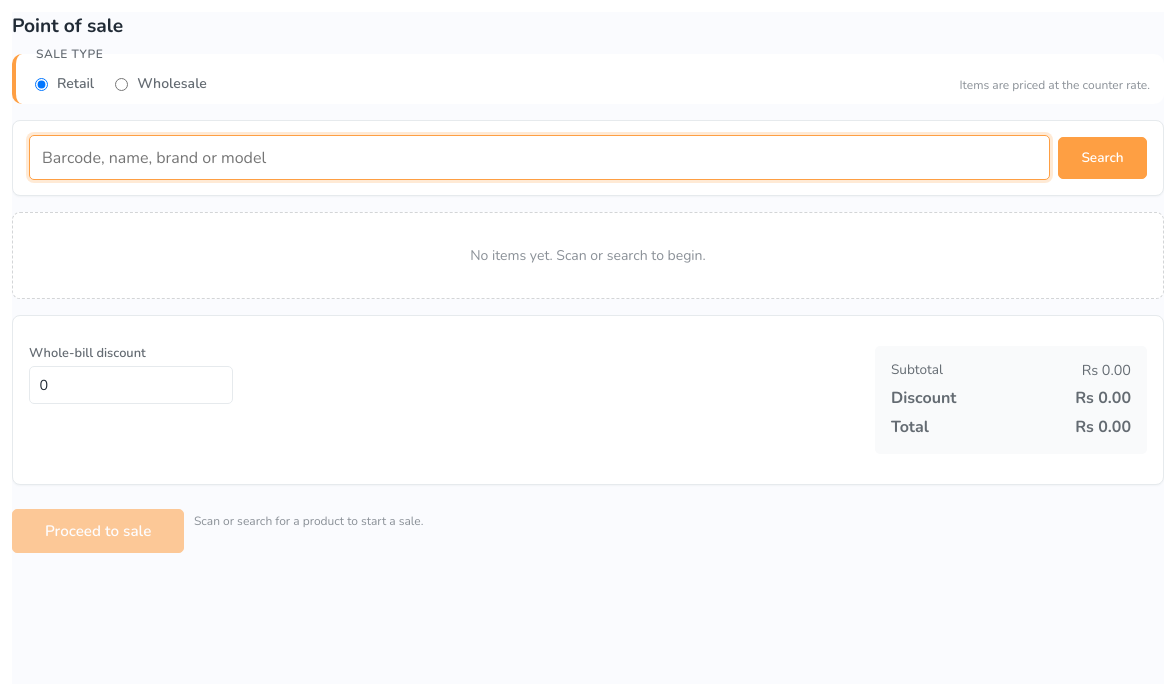
it: POS search results › shows a card per match, and adds nothing on its own
In the field named "scan or search": (540, 158) [29,135,1050,180], type "type-c"
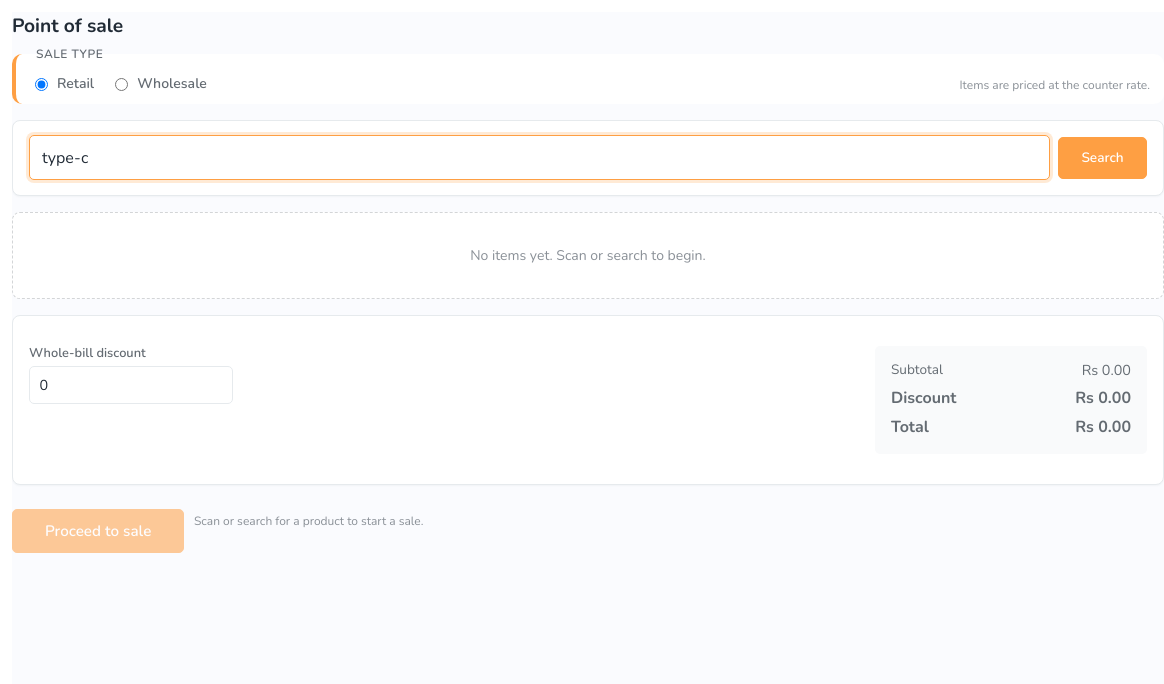
Press Enter
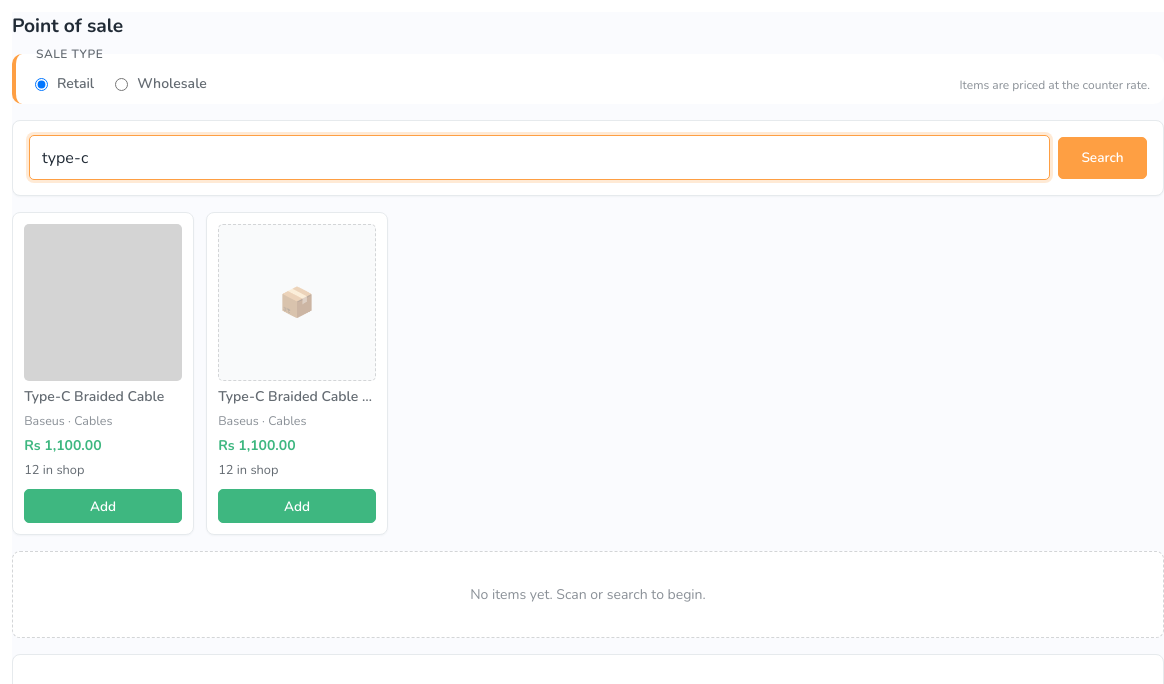
Check: the text "Type-C Braided Cable" is shown, box [24,386,182,407]
Check: the text "Type-C Braided Cable 2m" is shown, box [218,386,376,407]
